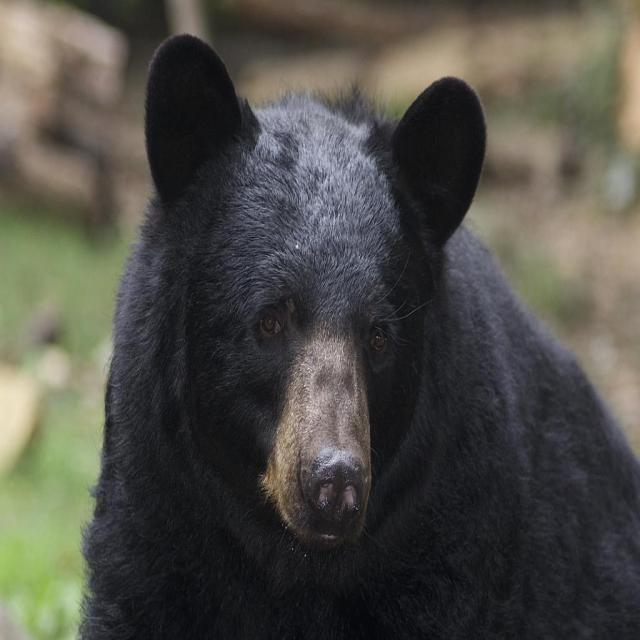Bear: (76, 35, 640, 640)
